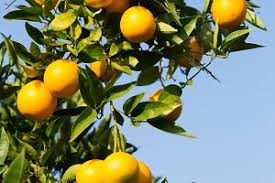orange: (16, 80, 56, 119), (44, 59, 81, 96), (118, 9, 156, 45), (101, 150, 141, 180), (90, 53, 116, 82)
